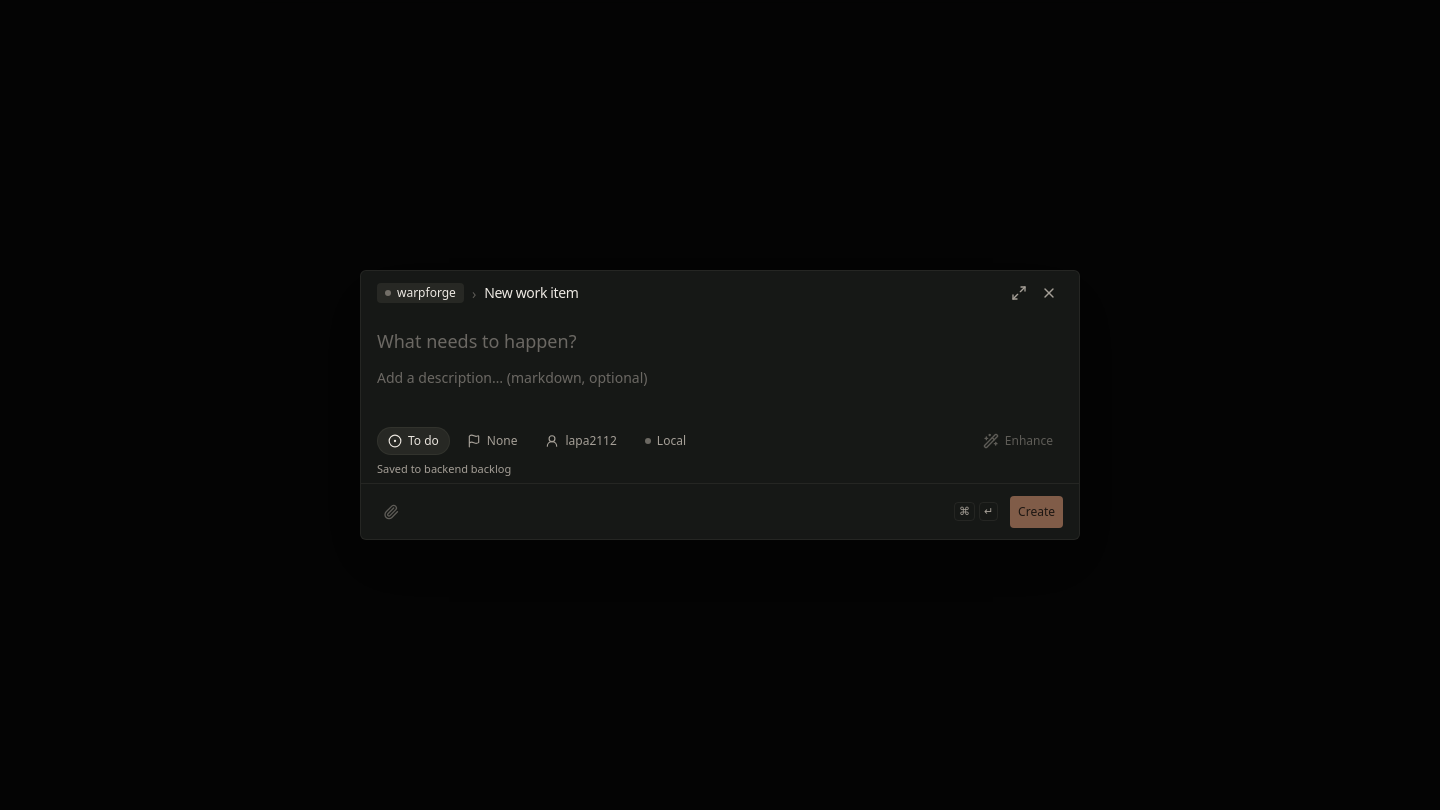
Test: NewWorkItemDrawer › offers no assignee on an item a tracker will own
This screenshot has width=1440, height=810.
Expected: the dropdown named "Assignee" is shown, [534,427,628,455]
Click the dropdown named "Source": (665, 441) [634,427,697,455]
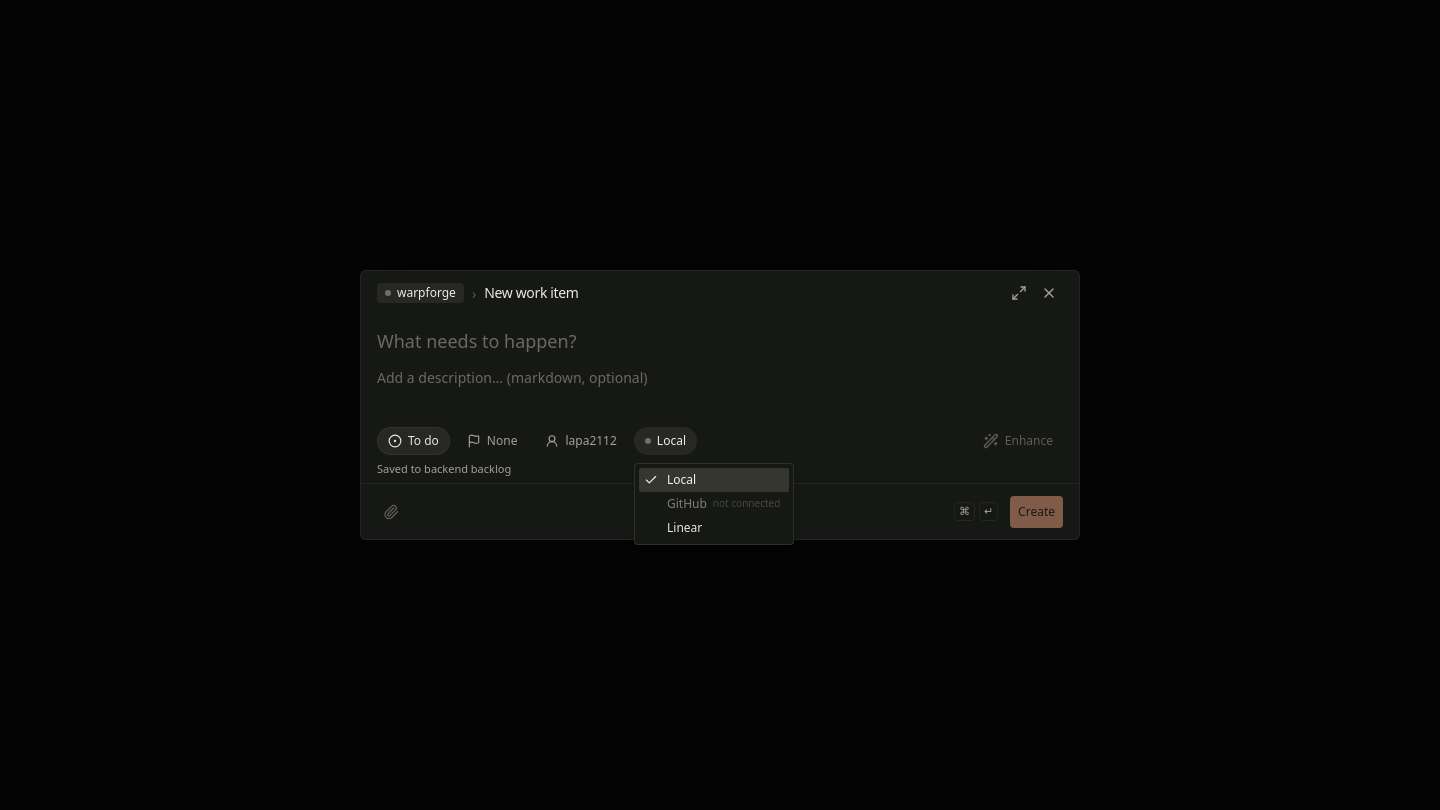
Click the option "Linear": (685, 528) [667,519,702,536]
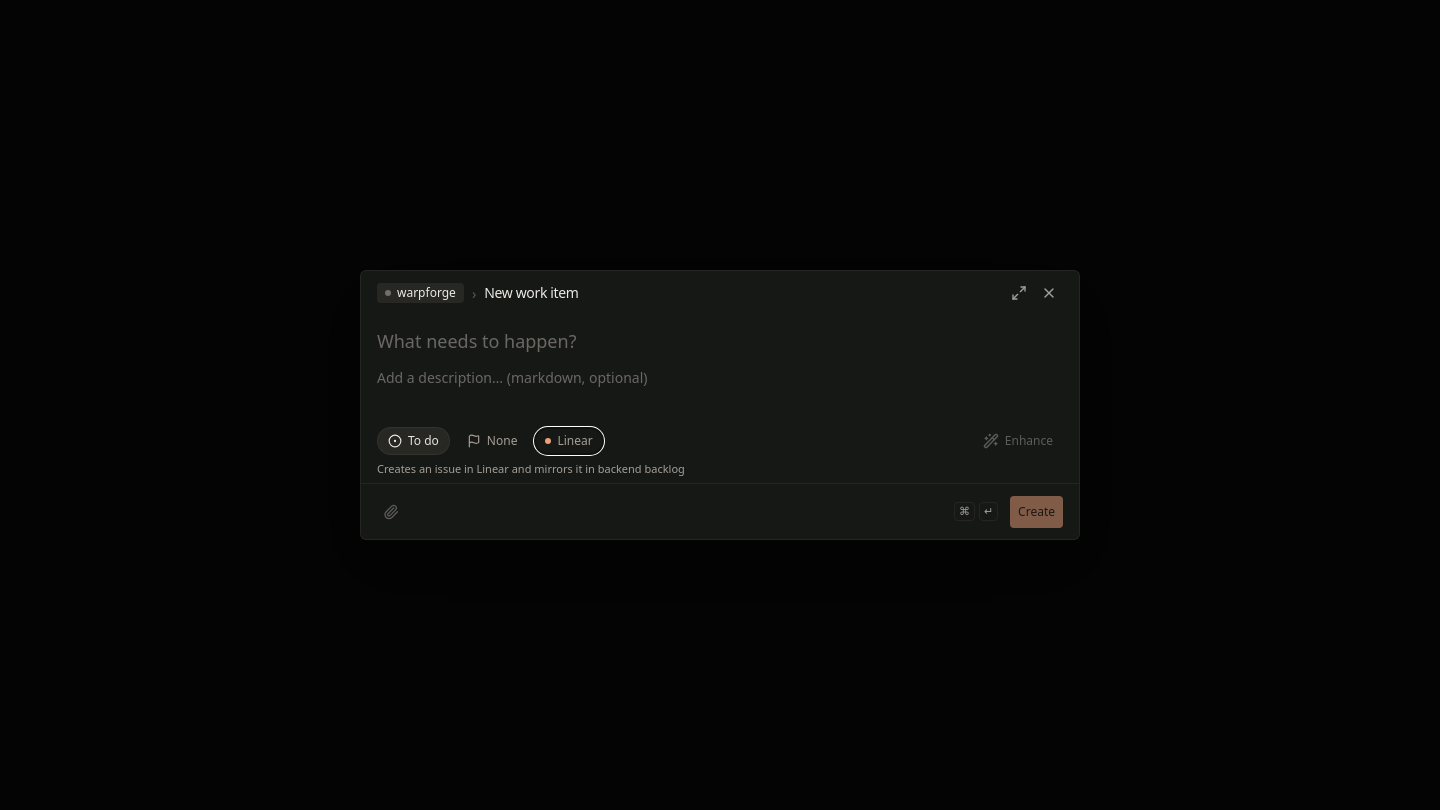
Expected: no options are shown
Expected: the dropdown labelled "Assignee" is gone
